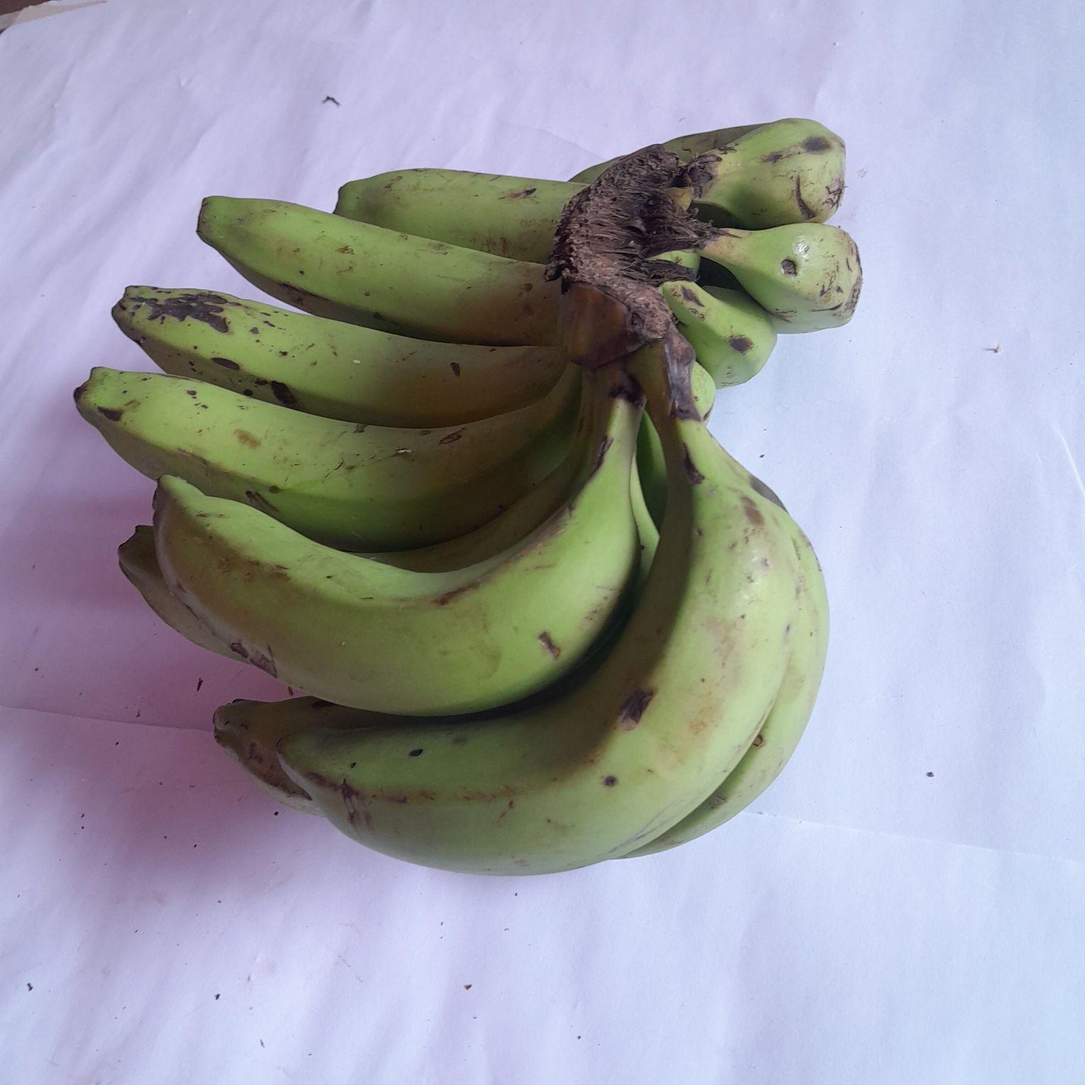Banana Unripe: (278, 341, 814, 873), (153, 367, 642, 715), (76, 367, 581, 551), (112, 286, 566, 428), (197, 197, 559, 345), (335, 170, 583, 263), (214, 697, 405, 815), (701, 223, 862, 333), (693, 119, 846, 229), (119, 526, 239, 659), (661, 280, 776, 387)
